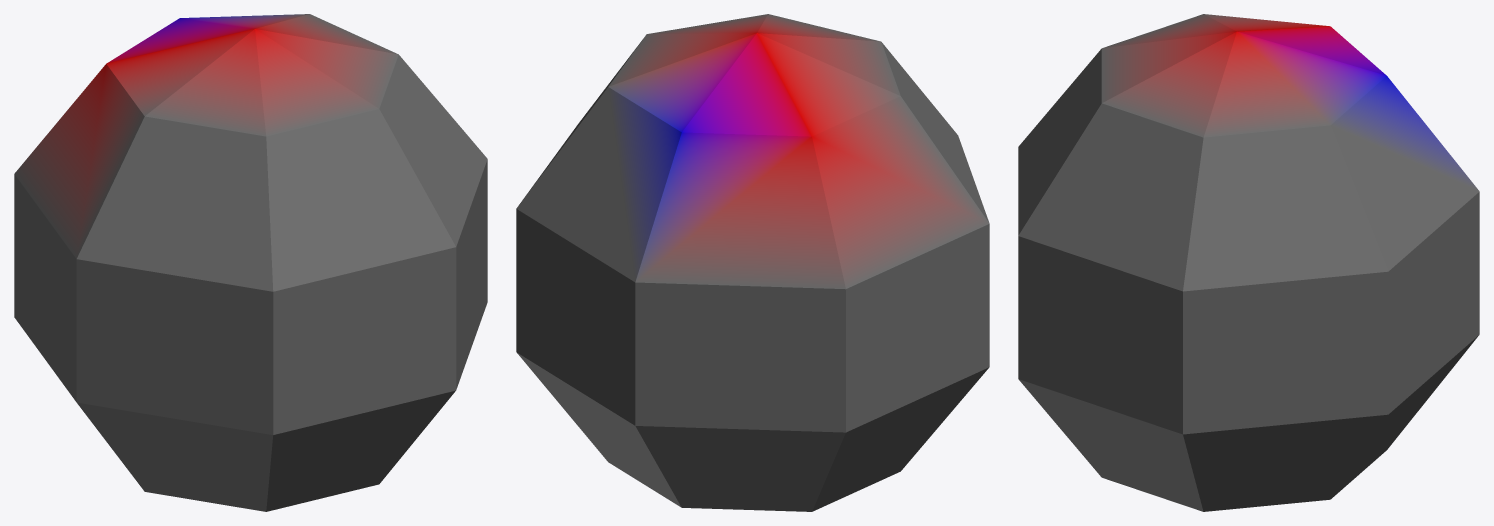
File: before_retriangulation_0.obj
The picture shows the model from 3 angles, left to right: view 1: azimuth 30°, elevation 25°; view 2: azimuth 150°, elevation 25°; view 3: azimuth 270°, elevation 25°; orthographic projection.
Size of the model in its own units: 1.85 by 2 by 1.81.
